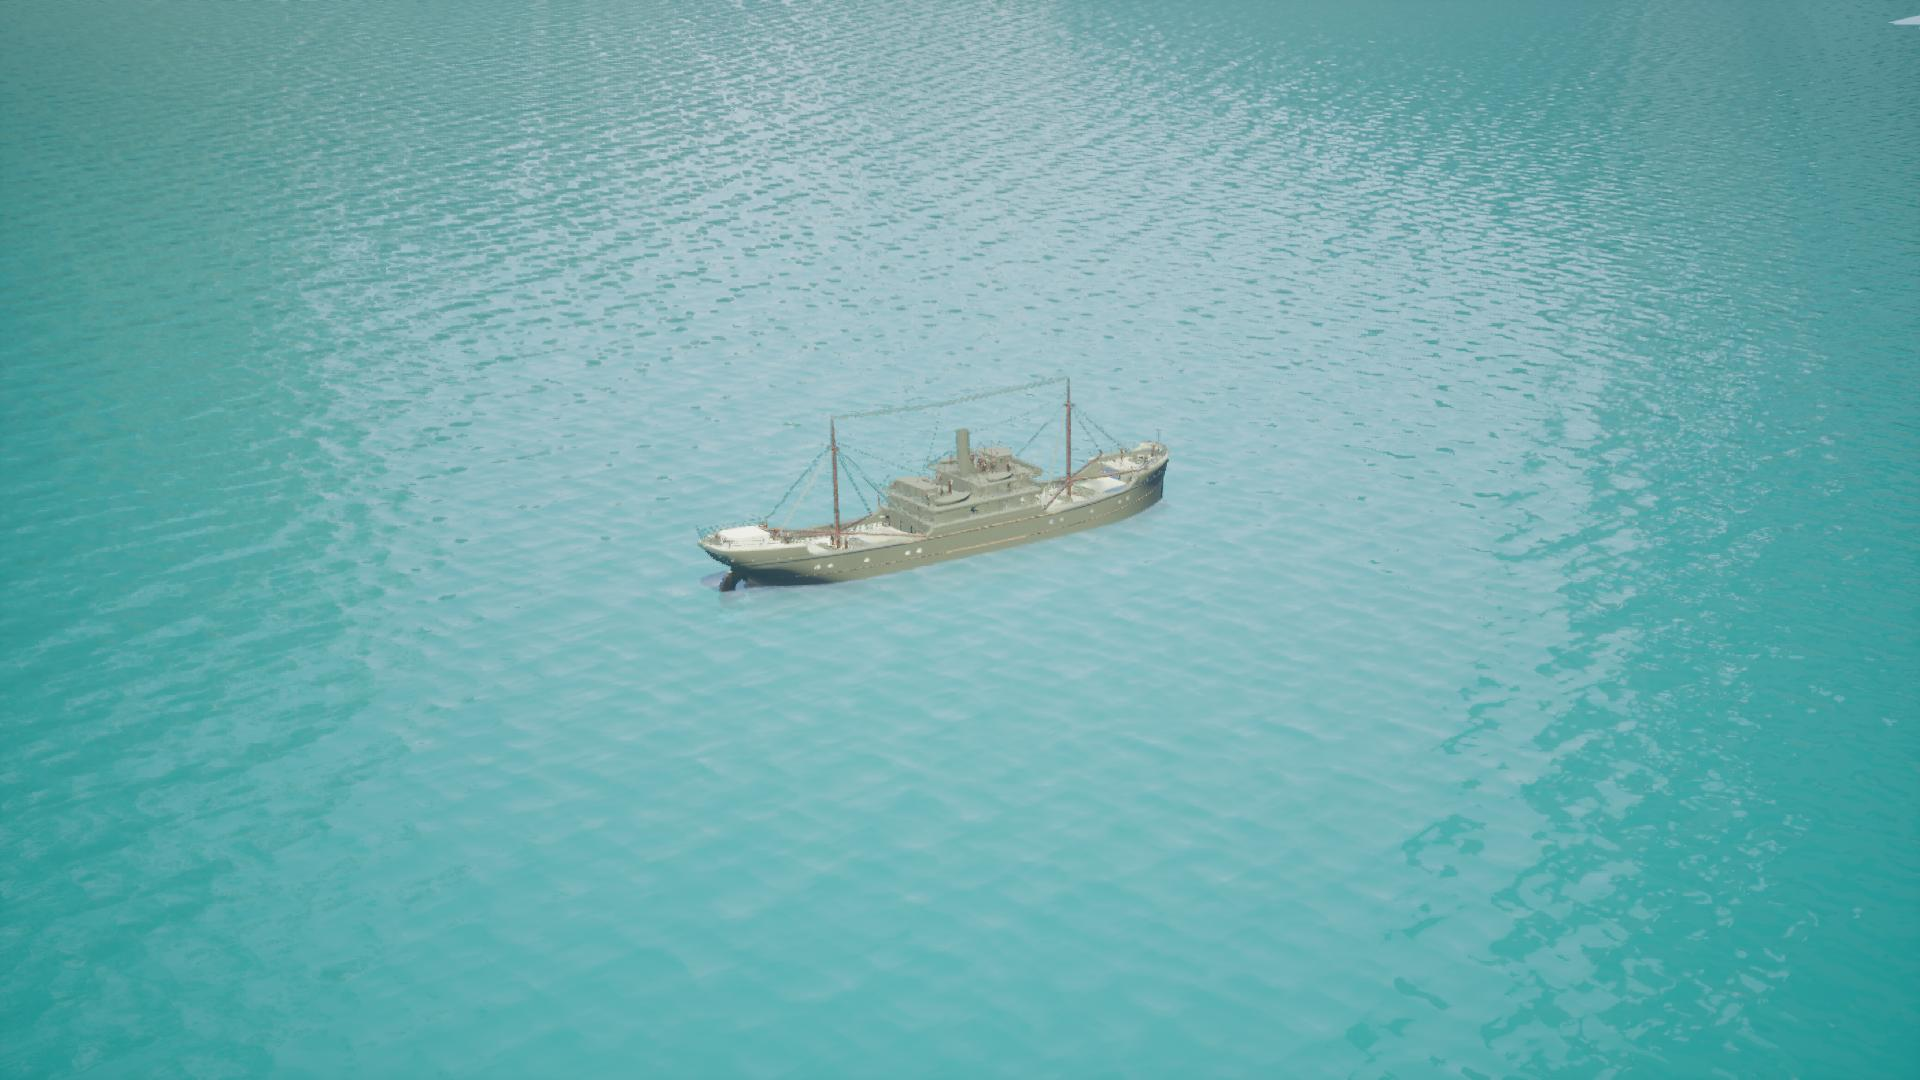Fishing Boat: (703, 394, 1171, 591)
